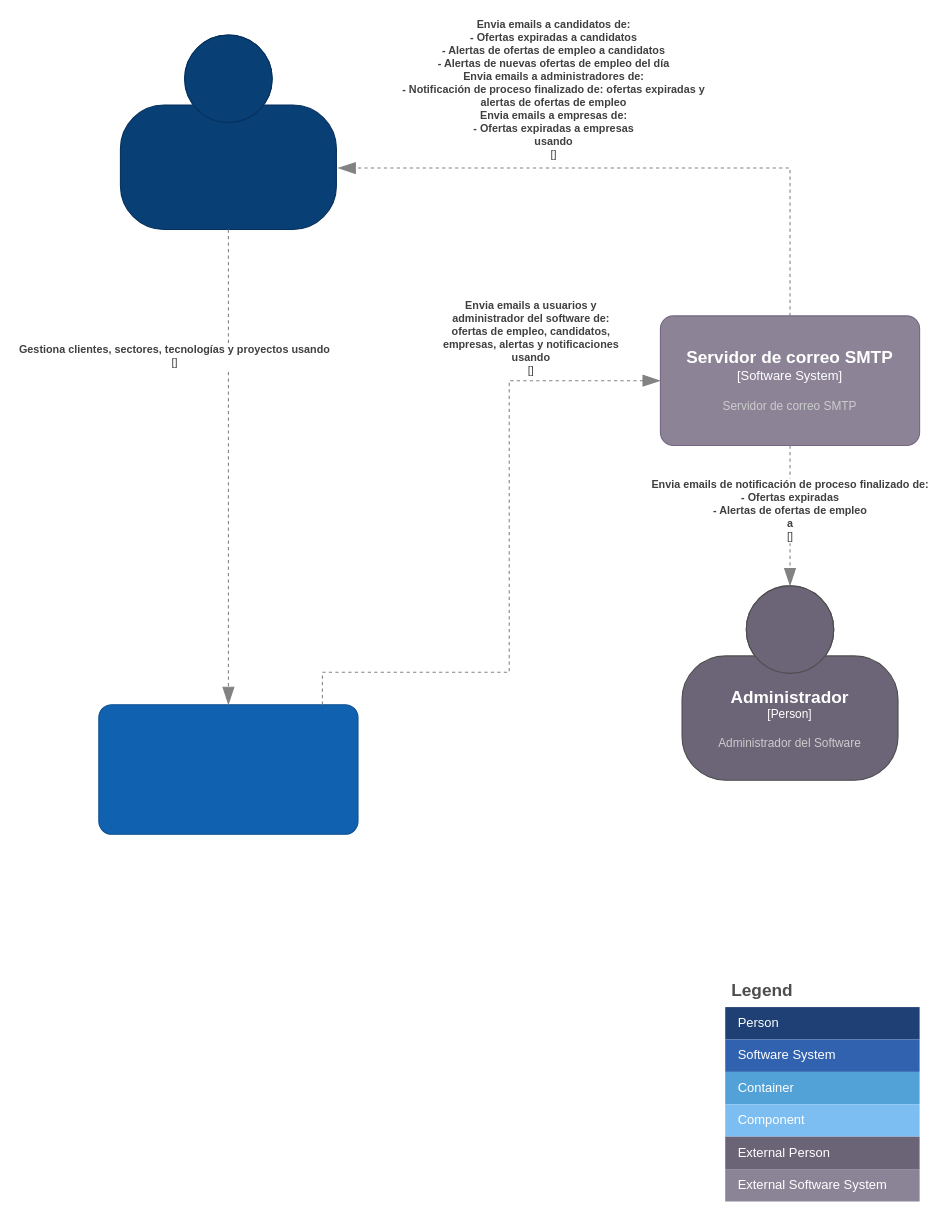
Image size: 947x1220. Some labels were removed from this diagram. Each missing label, with the centre of its shape:
TFSApi [Software System] API de demo de Time For Software: [228,769]
Usuario [Person] Usuario de la API: [227,132]
